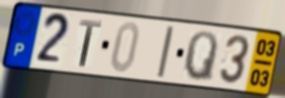0: (108, 20, 143, 76)
2: (32, 11, 73, 70)
3: (217, 33, 251, 86)
I: (155, 25, 176, 80)
Q: (182, 29, 220, 84)
T: (78, 17, 104, 69)
